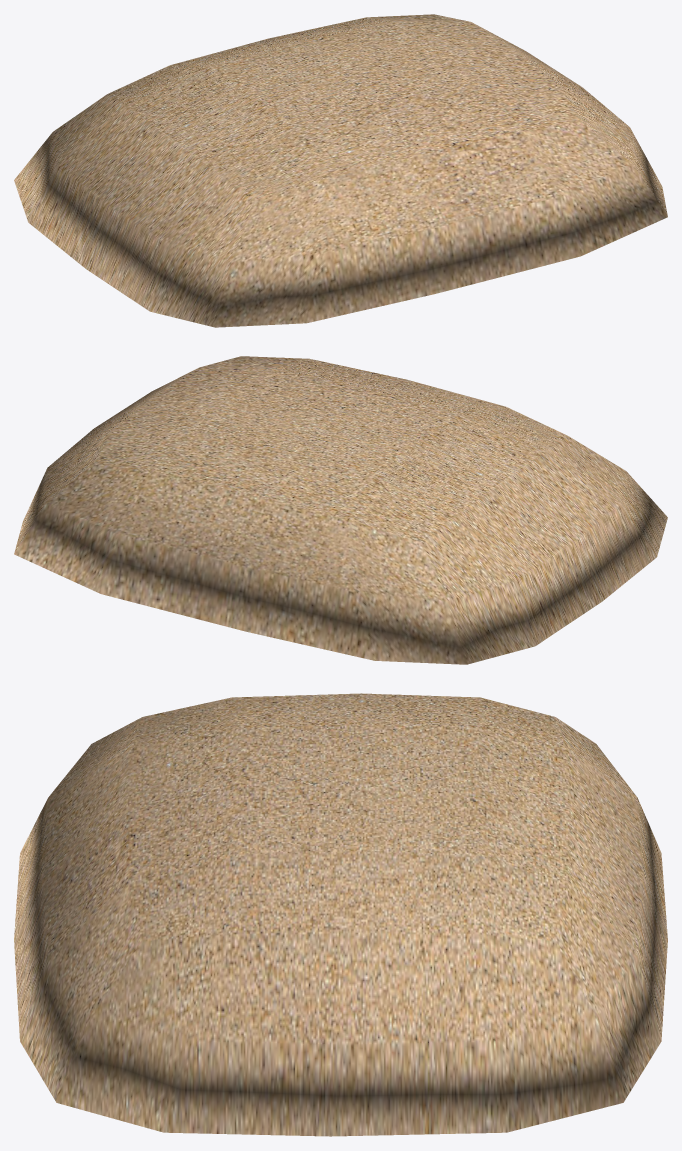
File: track7Filler.glb
The picture shows the model from 3 angles, top to bottom: view 1: azimuth 30°, elevation 25°; view 2: azimuth 150°, elevation 25°; view 3: azimuth 270°, elevation 25°; orthographic projection. The views are drawn at different scales.
Parts seen in each view (by area): view 1: Cube.015; view 2: Cube.015; view 3: Cube.015.
Boxes of the visible parts, x1,y1,x2,y2 form: Cube.015: (14,14,667,327); Cube.015: (14,356,667,664); Cube.015: (14,693,667,1136).
Bounding box in the file's own units: 12.87 × 3.23 × 9.91.
1 material, 1 textured.
